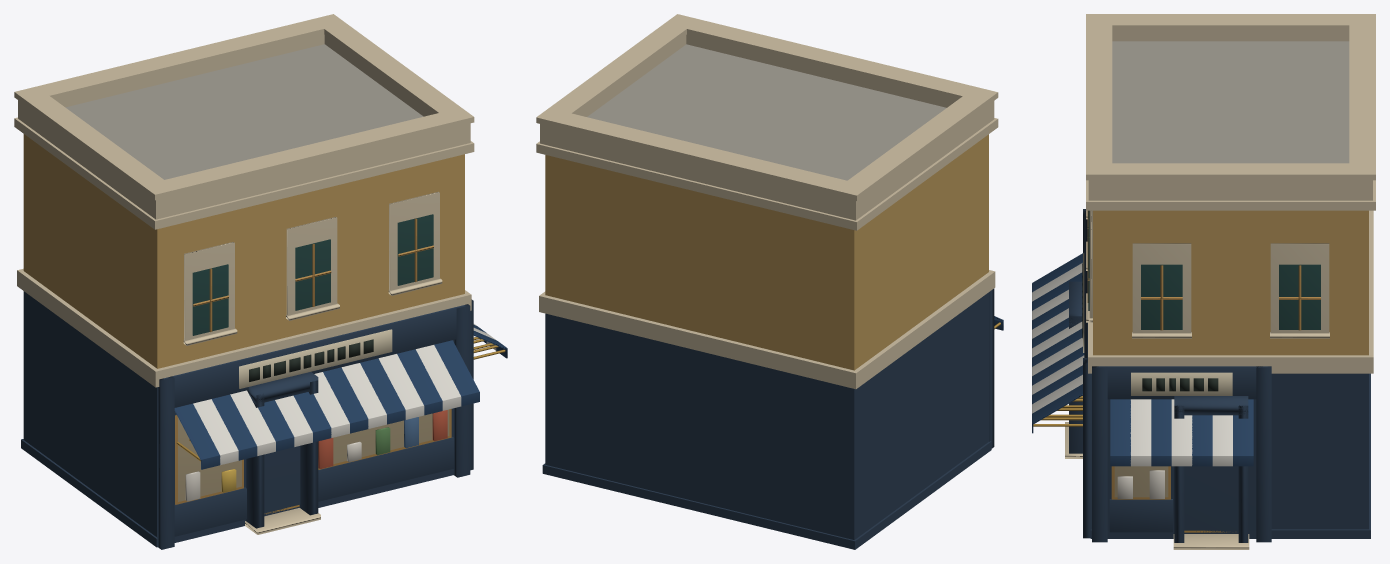
The model's file is city_terra_2.glb.
3 views of the same model, side by side, from view 1: azimuth 30°, elevation 25°; view 2: azimuth 150°, elevation 25°; view 3: azimuth 270°, elevation 25° (orthographic). The views are drawn at different scales.
Parts seen in each view (by area): view 1: city_terra_2; view 2: city_terra_2; view 3: city_terra_2.
Boxes of the visible parts, x1,y1,x2,y2 form: city_terra_2: (14,14,507,549); city_terra_2: (536,14,1003,549); city_terra_2: (1032,14,1375,549).
Bounding box in the file's own units: 6.21 × 5.79 × 4.92.
